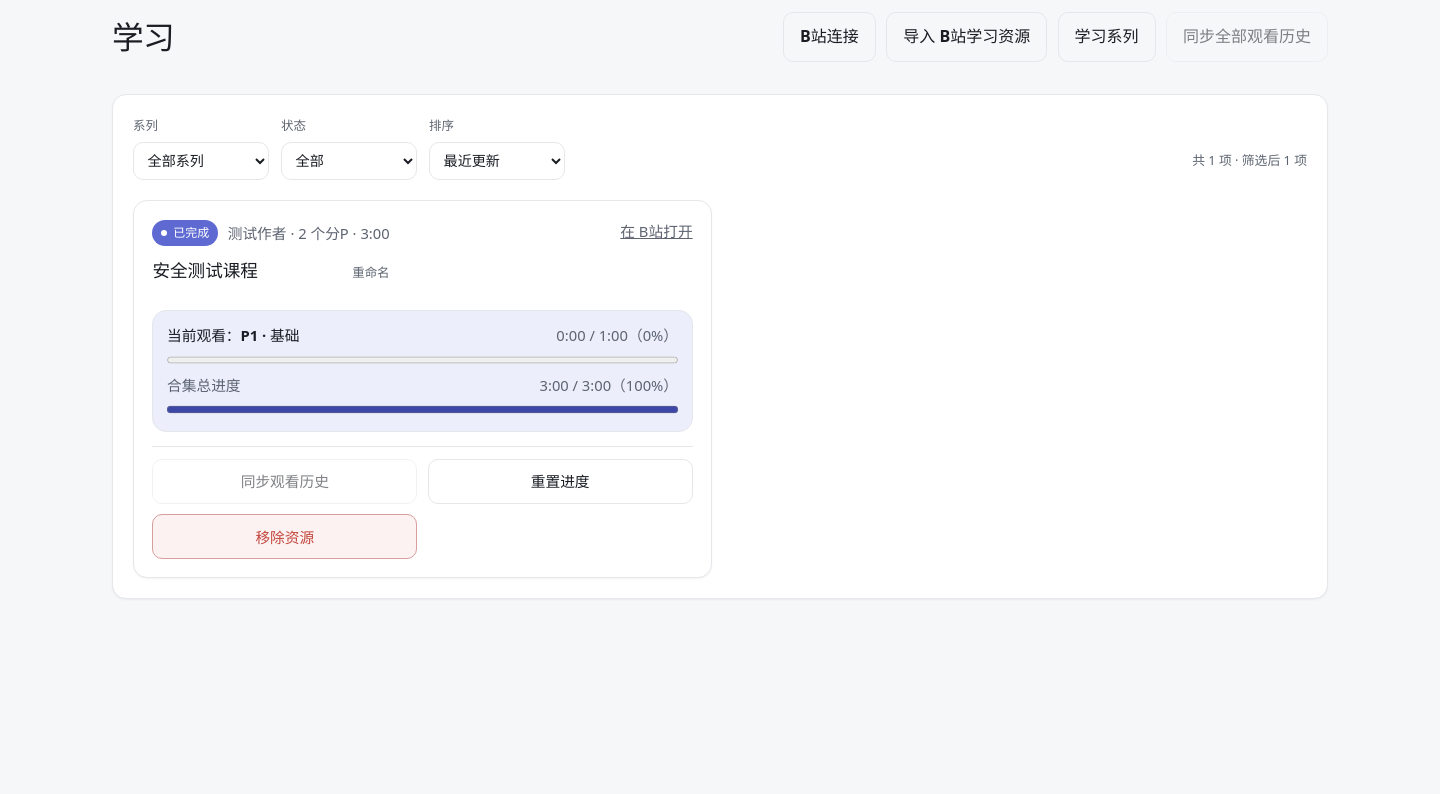
learning center › shows series totals with duration and completion in the series panel
Expected: the heading "安全测试课程" is shown, top-left (152, 258), bottom-right (258, 282)
Click the button "学习系列": (1107, 37) top-left (1058, 12), bottom-right (1156, 62)
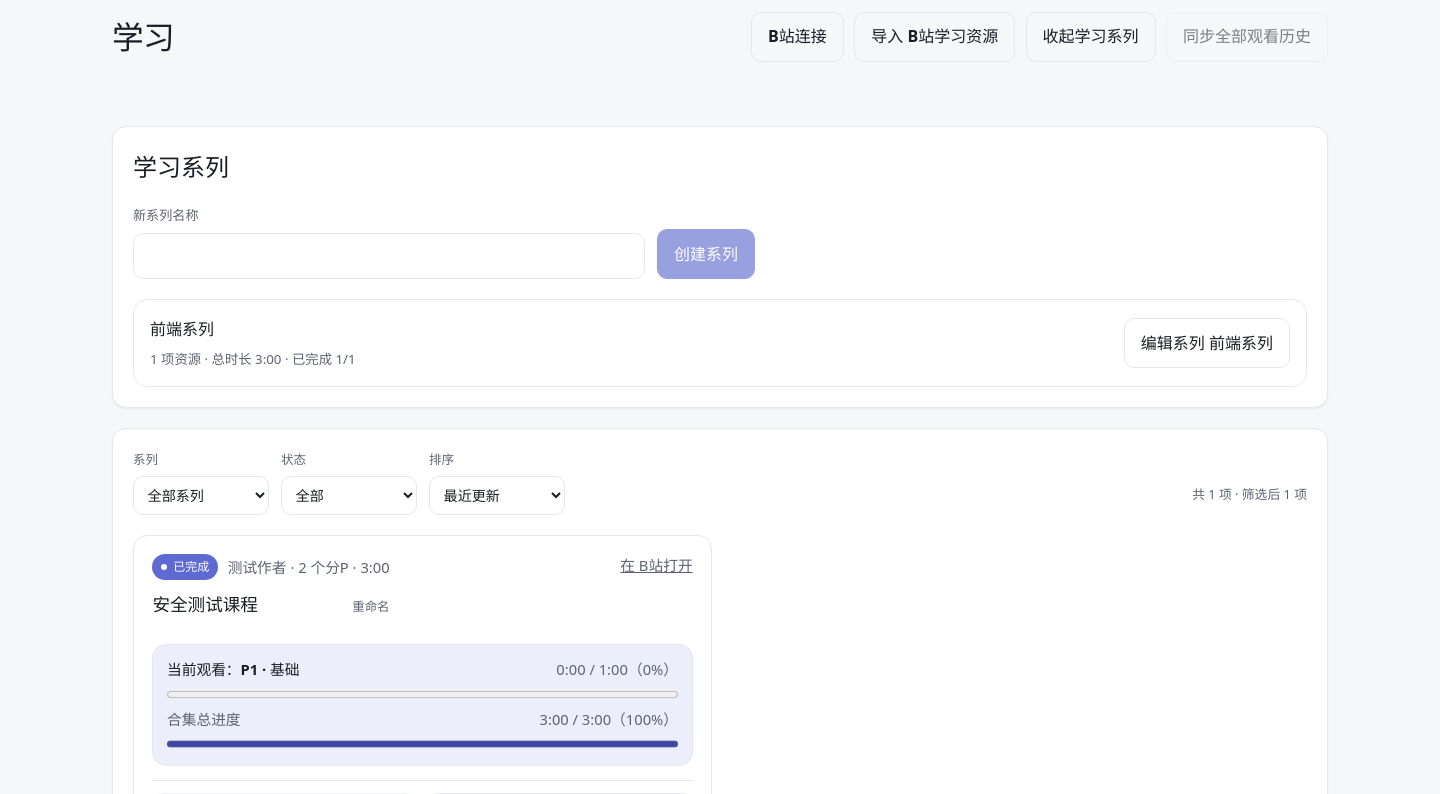
Result: the text "1 项资源 · 总时长 3:00 · 已完成 1/1" is shown at top-left (150, 348), bottom-right (356, 370)
